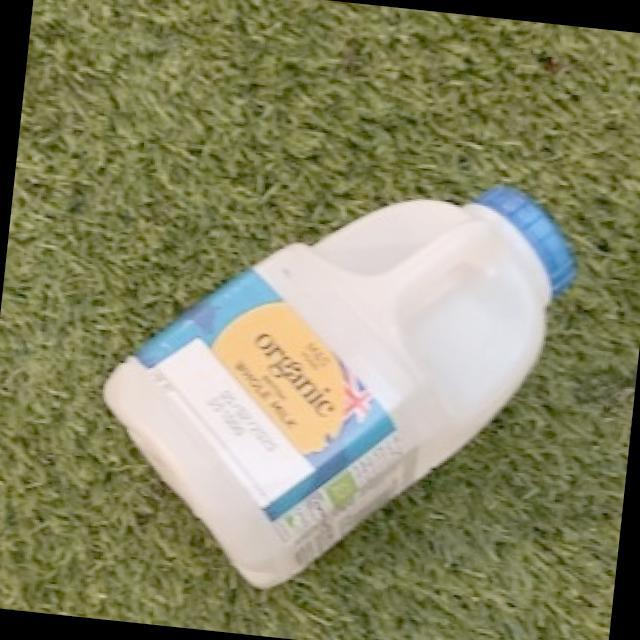HDPE Plastic: (100, 178, 580, 594)
